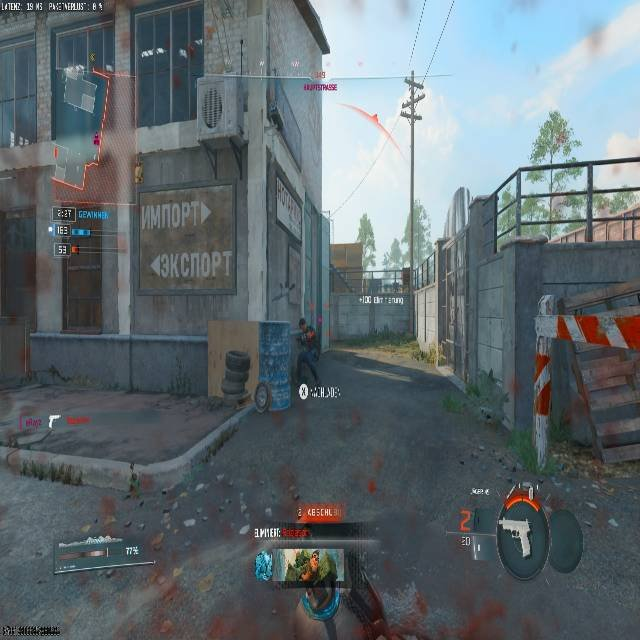head: (287, 549, 340, 613), (298, 318, 306, 329)
player: (291, 318, 319, 395)
